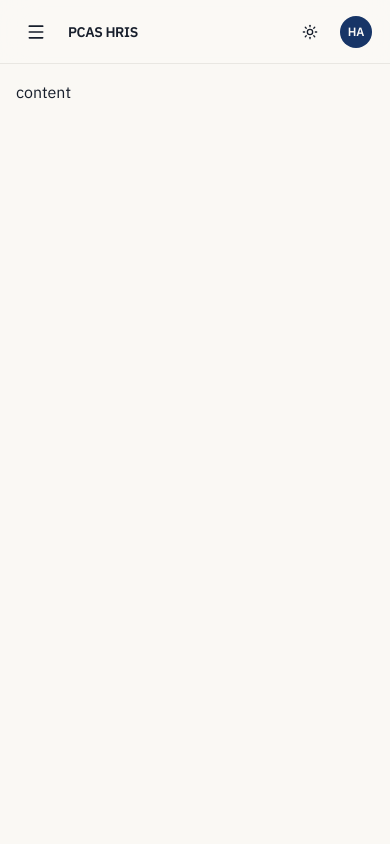
it: WorkspaceLayout mobile navigation › puts the mobile menu's links in their own scroll area, so modules below the fold stay reachable
The width and height of the screenshot is (390, 844).
Click the button with test id "mobile-nav-open-button": (36, 32) [16, 12, 56, 52]
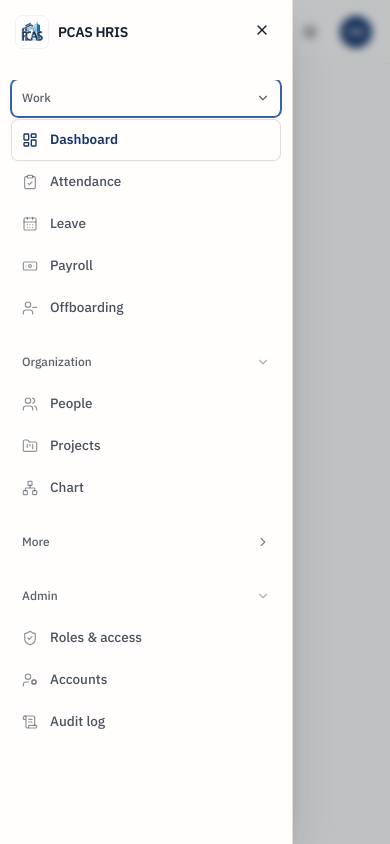
expect the navigation bar named "Main navigation" is shown: met, box [12, 80, 280, 742]
